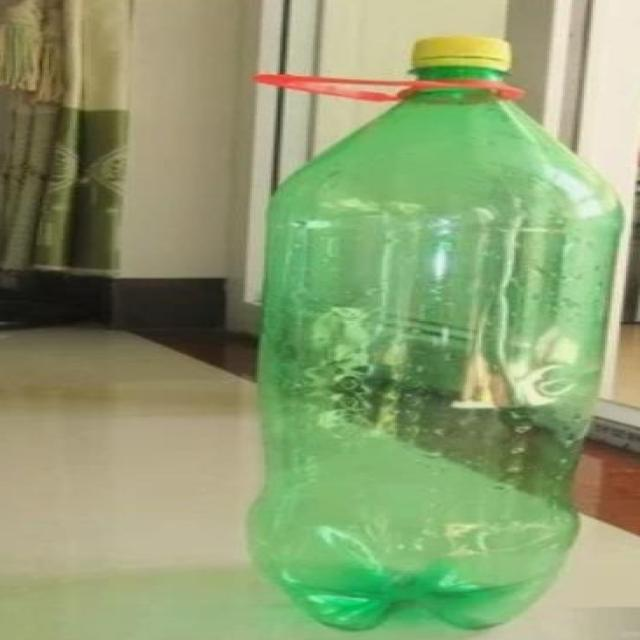plastic: (232, 33, 629, 630)
